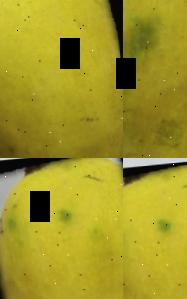Ripe: (0, 0, 123, 158), (0, 158, 123, 299), (123, 0, 187, 158), (123, 159, 187, 299)
